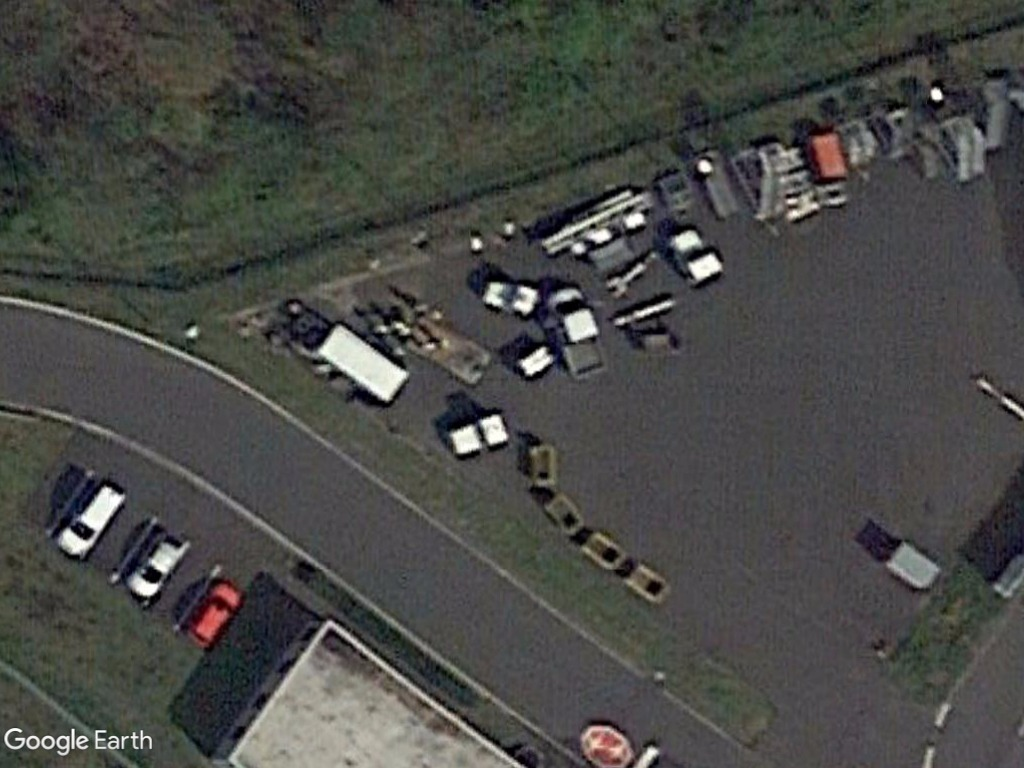car: (46, 475, 133, 559), (172, 569, 252, 652), (120, 529, 196, 611)
